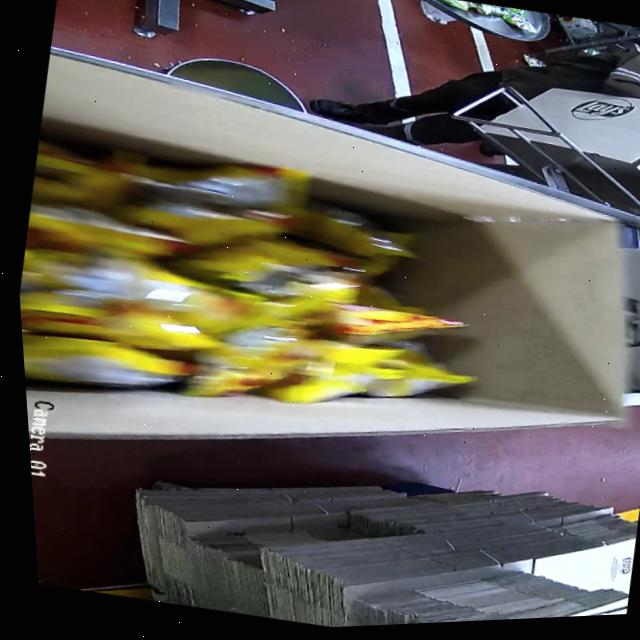SALTED: (8, 99, 493, 463)
